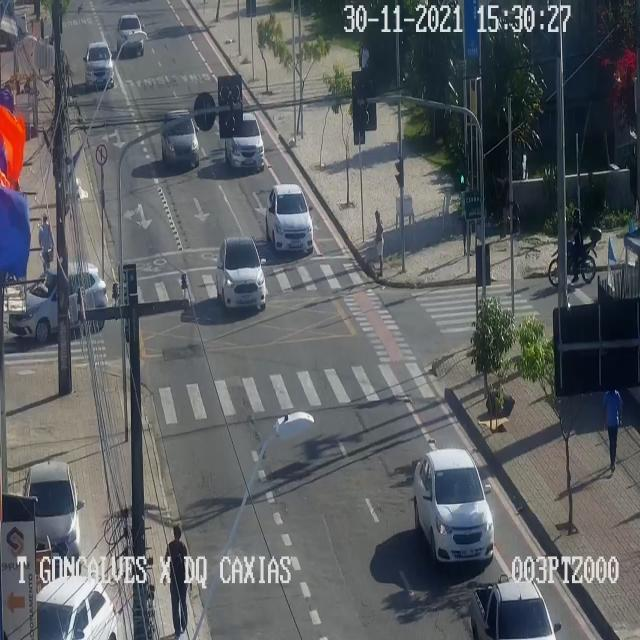Car: (413, 447, 495, 564), (10, 264, 106, 341), (24, 462, 83, 564), (470, 581, 564, 639), (36, 576, 120, 639), (214, 236, 268, 308), (265, 183, 315, 255), (225, 108, 265, 170), (162, 108, 198, 172), (82, 41, 114, 89), (116, 13, 146, 52)
Motorcycle: (549, 209, 599, 287)
